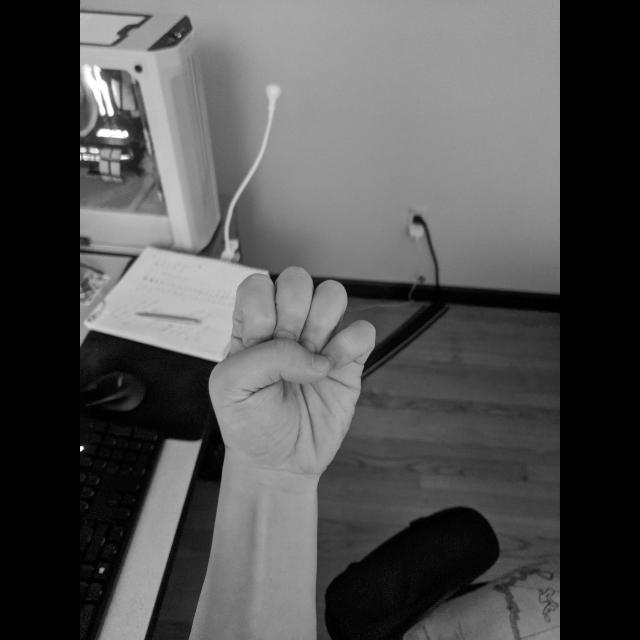E: (204, 263, 380, 485)
